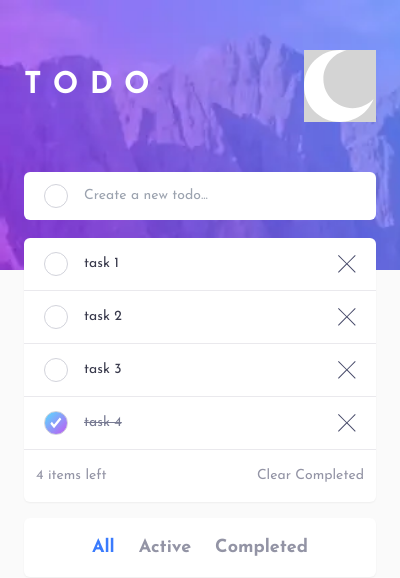
it: Todo List › can filter by all, active and completed tasks
Click the button "Active" at (165, 548), box [139,534,191,561]
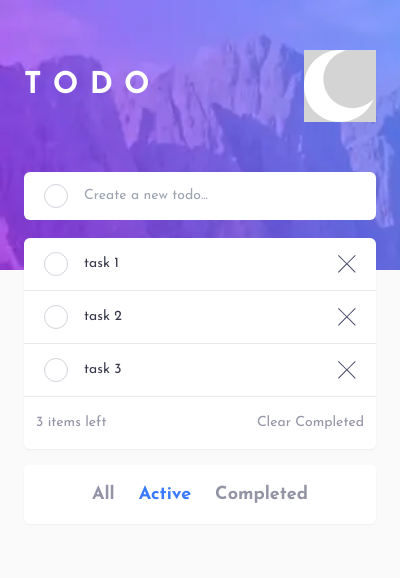
Check: the text "task 1" is shown, box [84,256,119,271]
Check: the text "task 4" is gone
Click the button "Completed" at (262, 495), box [215,481,308,508]
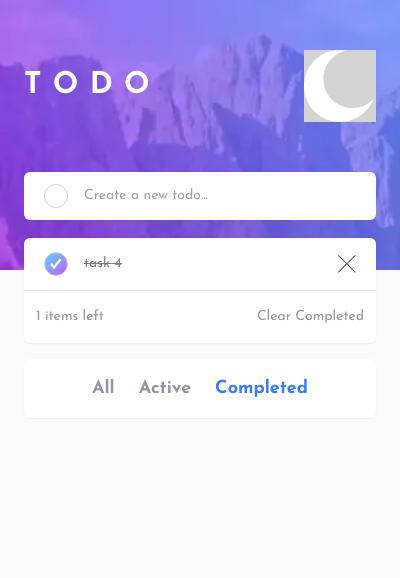
Check: the text "task 4" is shown, box [84,256,122,271]
Check: the text "task 1" is gone
Check: the text "task 2" is gone
Click the button "All" at (104, 389), box [92,375,115,402]
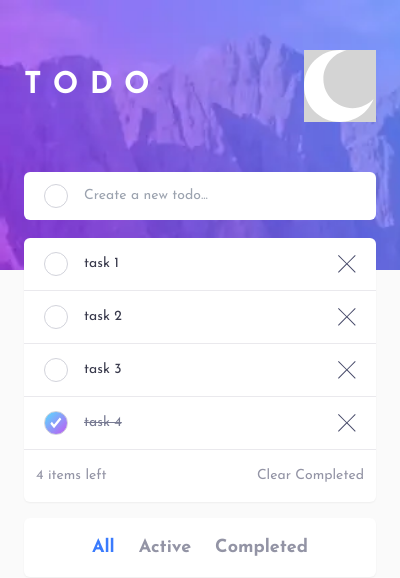
Check: the text "task 1" is shown, box [84,256,119,271]
Check: the text "task 2" is shown, box [84,309,122,324]
Check: the text "task 3" is shown, box [84,362,122,377]
